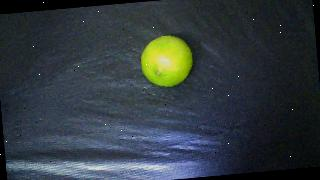LOCAL: (139, 33, 195, 88)
